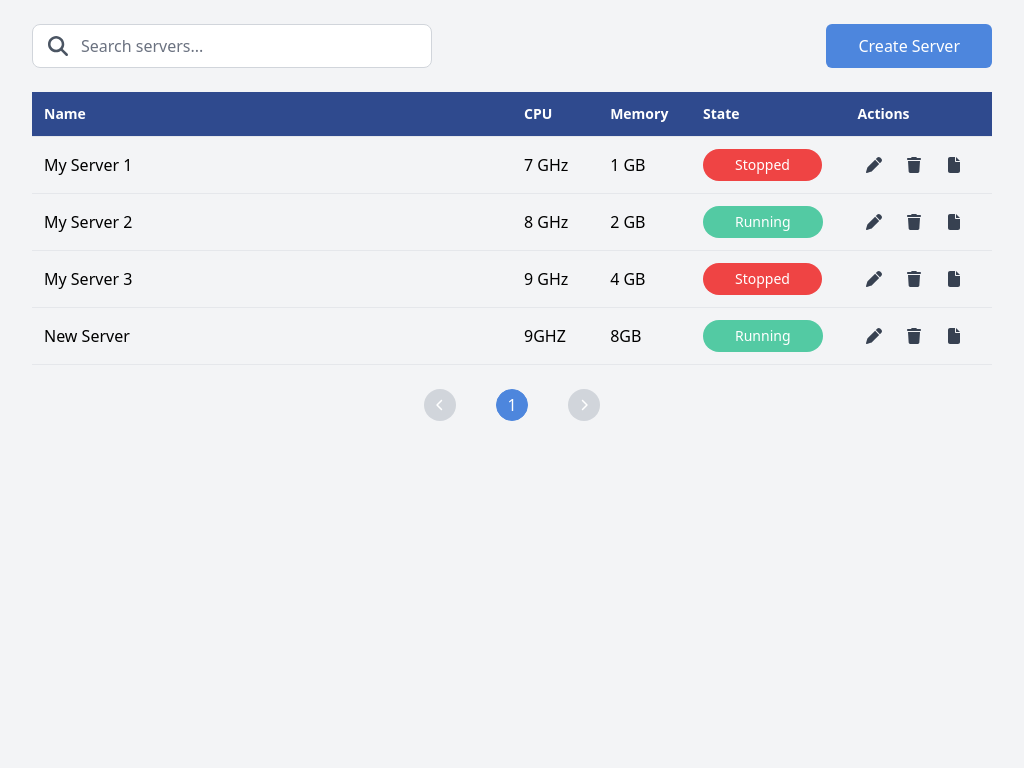
test app › test edit server functionality
Click the 1st element with test id "edit-server" at (874, 165), box [866, 157, 882, 173]
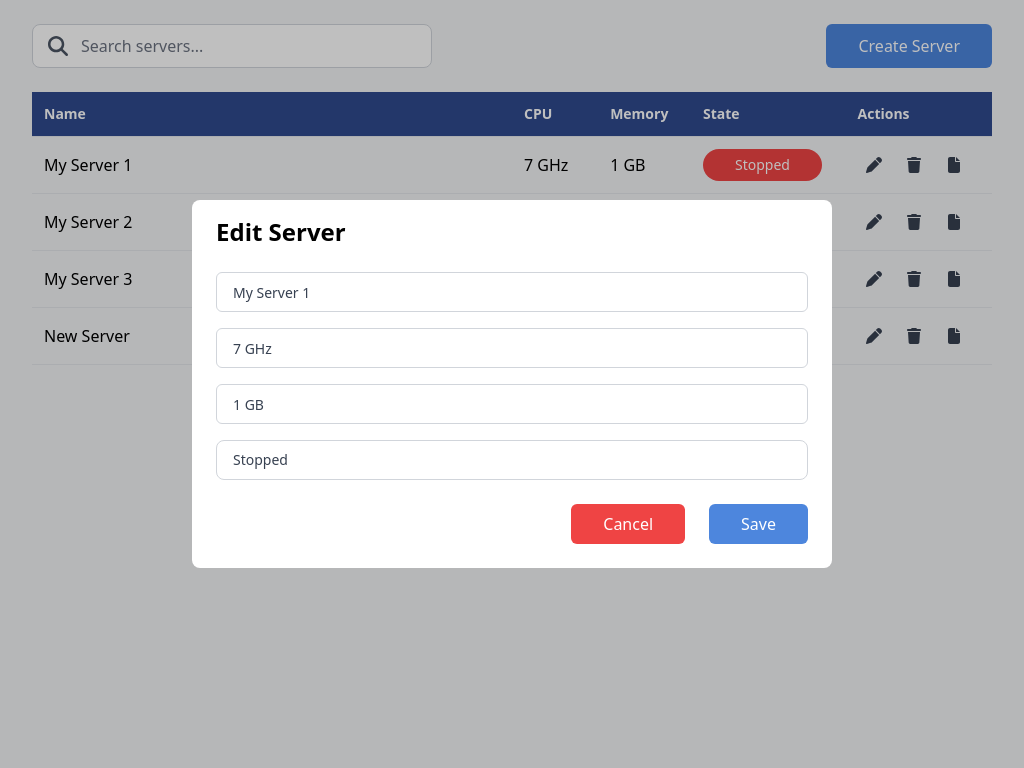
expect the element with test id "server-modal" is shown: met, box [192, 200, 832, 568]
expect the 1st field with placeholder "Name" holds "My Server 1": met
expect the 2nd field with placeholder "CPU" holds "7 GHz": met, box [216, 328, 808, 368]
Type "Updated Server" into the 1st field with placeholder "Name" at (512, 292), box [216, 272, 808, 312]
Type "10GHZ" into the 2nd field with placeholder "CPU" at (512, 348), box [216, 328, 808, 368]
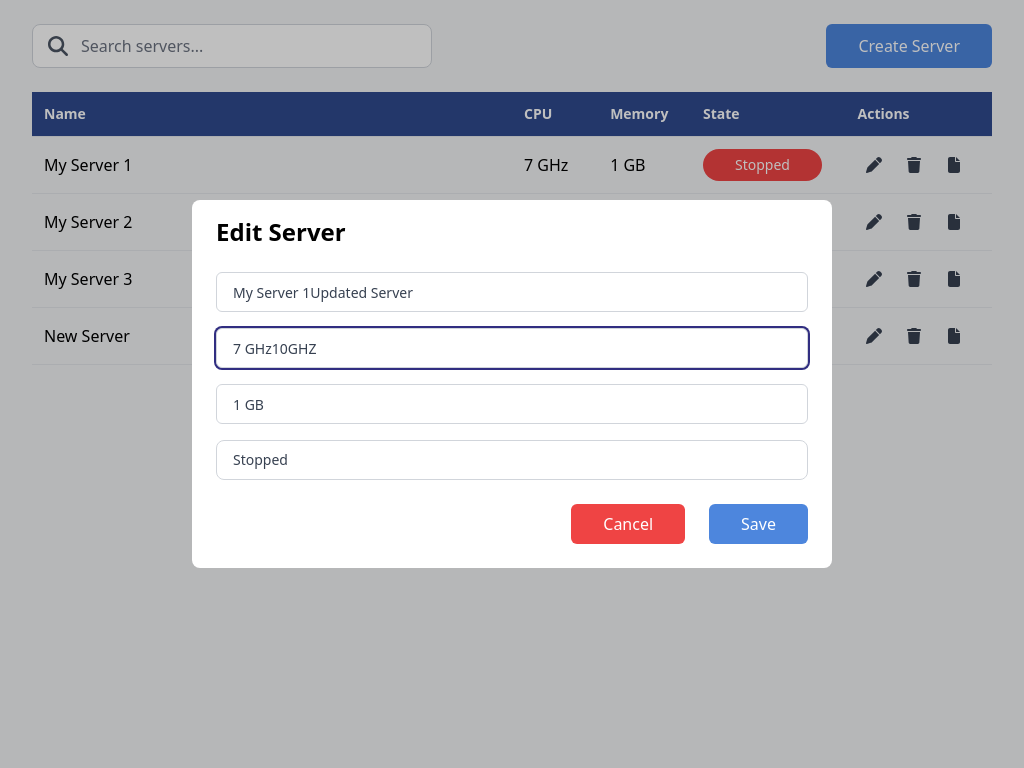
Type "64GB" into the 3rd field with placeholder "Memory" at (512, 404), box [216, 384, 808, 424]
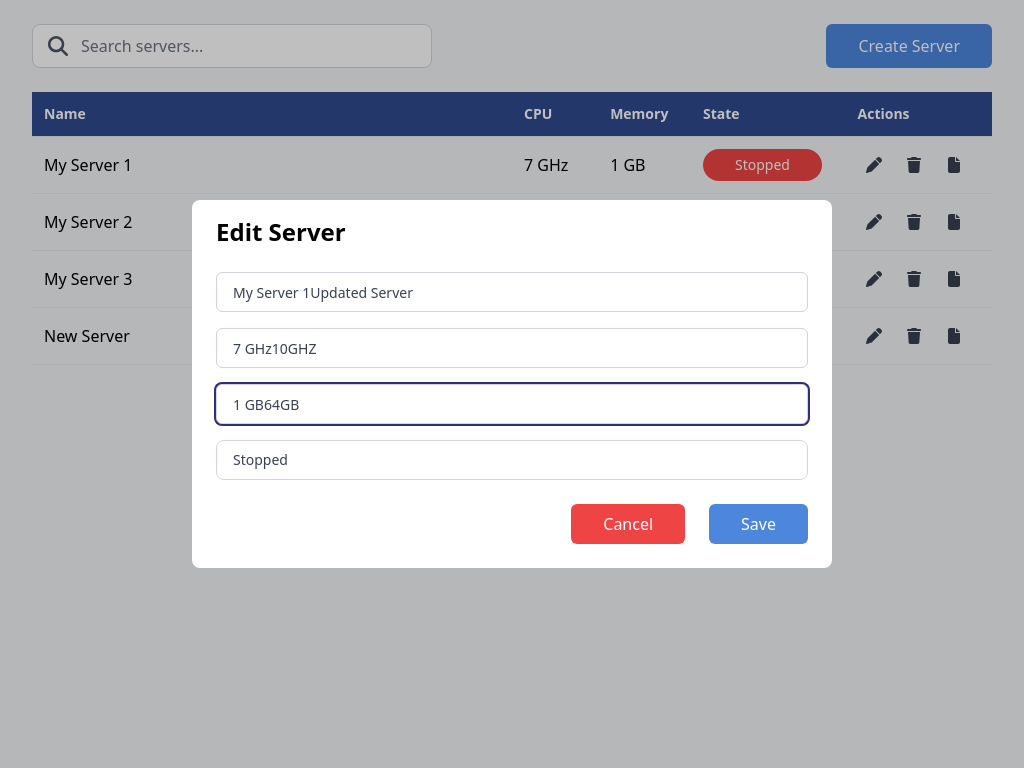
Click the button "Save" at (759, 524), box [709, 504, 808, 544]
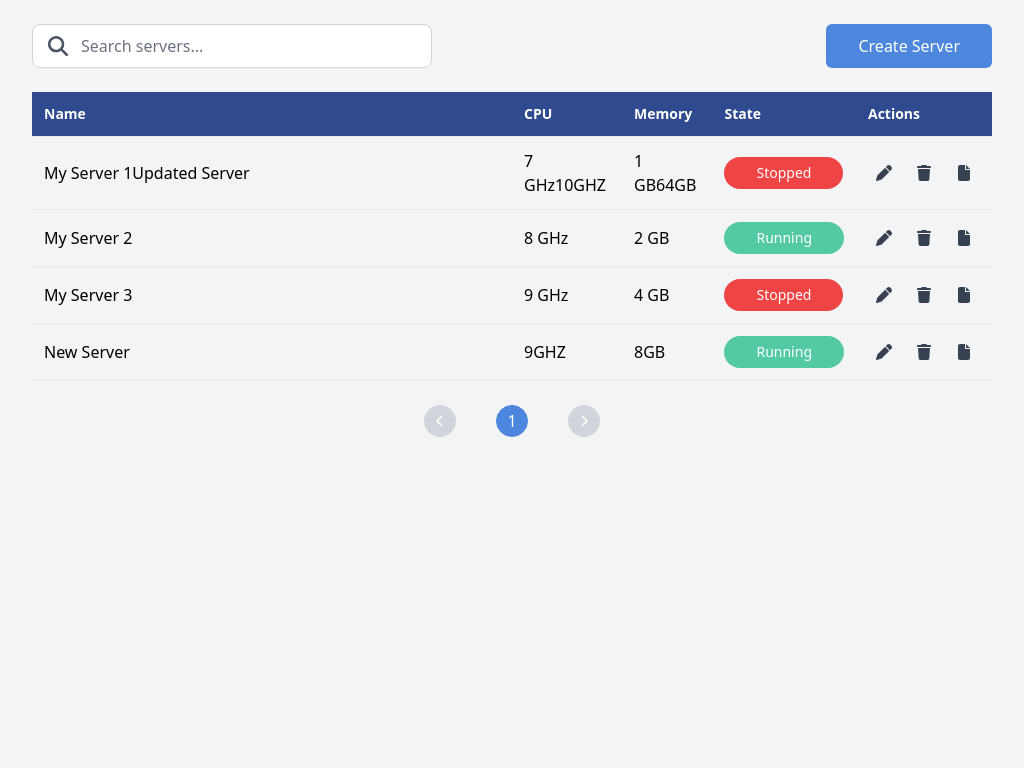
expect the number of rows with test id "table-row" is 4: met, box [32, 136, 992, 210]; [32, 210, 992, 266]; [32, 266, 992, 324]; [32, 324, 992, 380]
expect the text "My Server 1Updated Server" is shown: met, box [32, 136, 512, 210]
Click the 1st element with test id "edit-server" at (884, 173), box [876, 165, 892, 181]
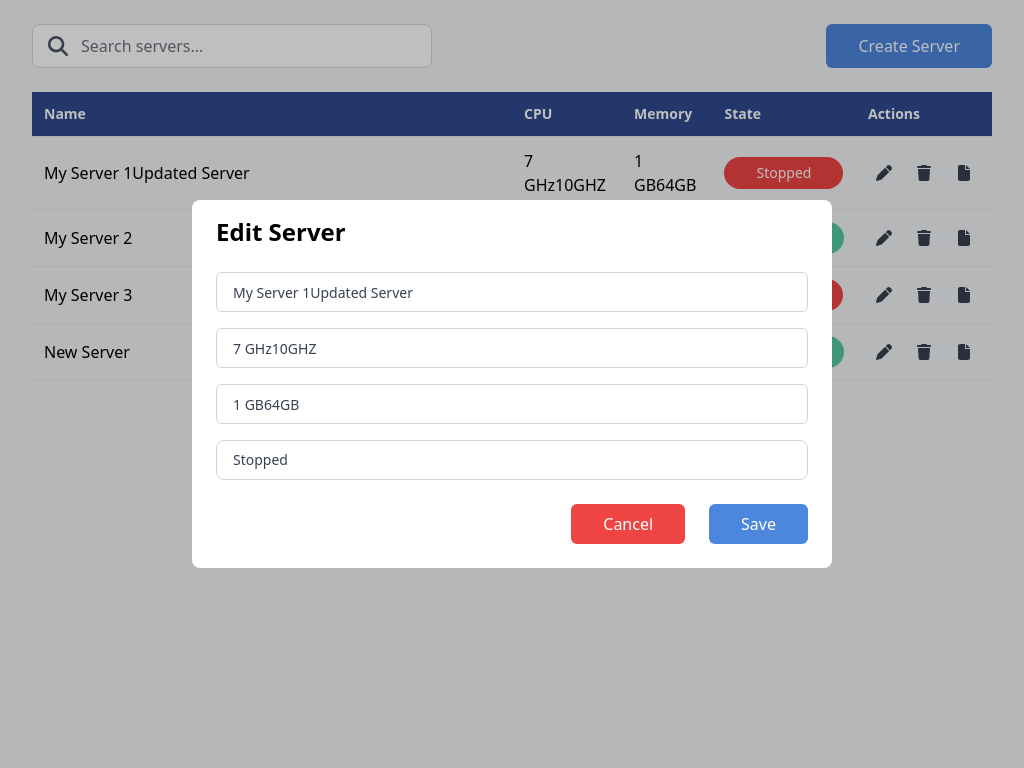
Click the element with test id "server-modal" at (512, 384), box [192, 200, 832, 568]
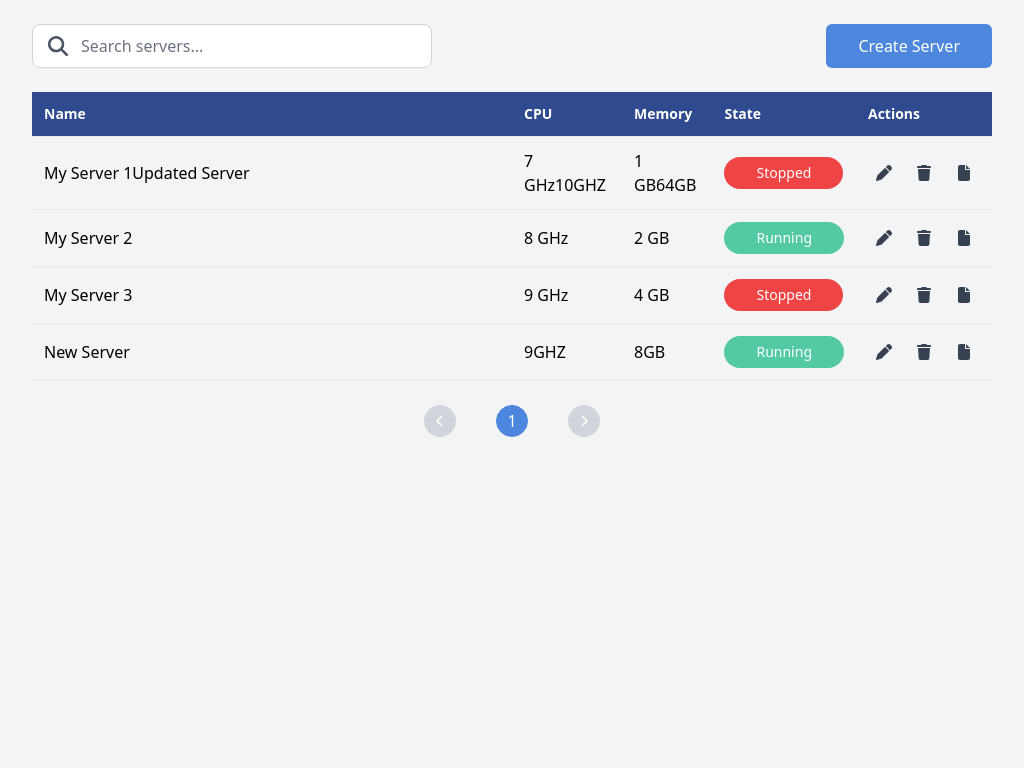
expect the element with test id "server-modal" is gone: met
